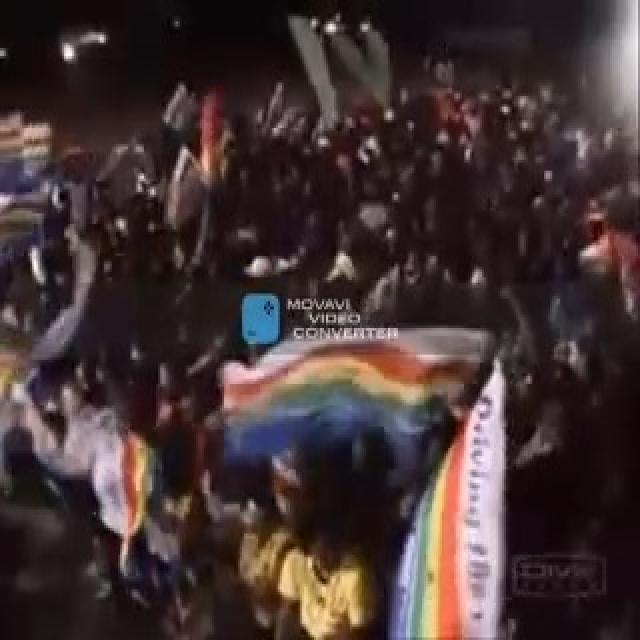non-voilence: (0, 56, 638, 637), (386, 352, 512, 637)
